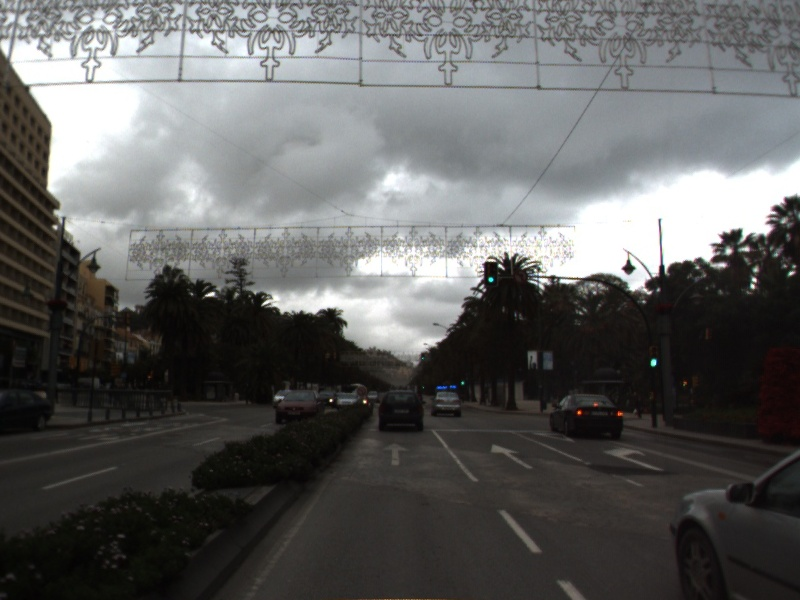RIGHT: (601, 444, 667, 473)
STRAIGHT: (488, 442, 535, 471), (381, 441, 413, 467)
